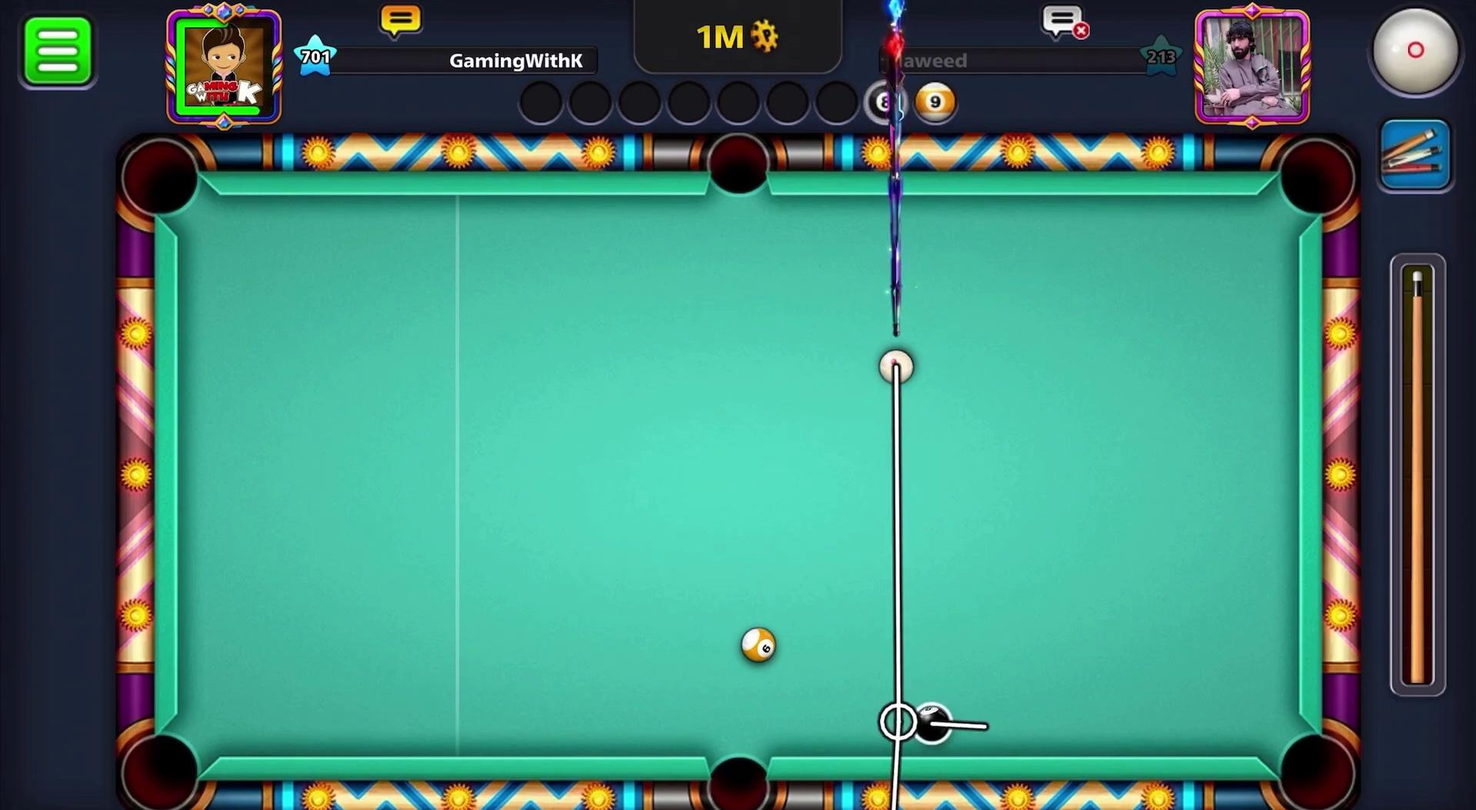Ball: (734, 622, 783, 672), (908, 700, 956, 744)
Force: (1386, 255, 1453, 702)
Guideline: (878, 349, 988, 809)
Hole: (108, 130, 212, 231), (1268, 130, 1366, 231), (109, 717, 214, 809), (1267, 722, 1364, 809), (685, 739, 786, 809), (698, 128, 779, 206)
Play_Area: (177, 193, 1292, 759)
Spin: (1348, 0, 1475, 112)
White: (871, 340, 921, 390)
